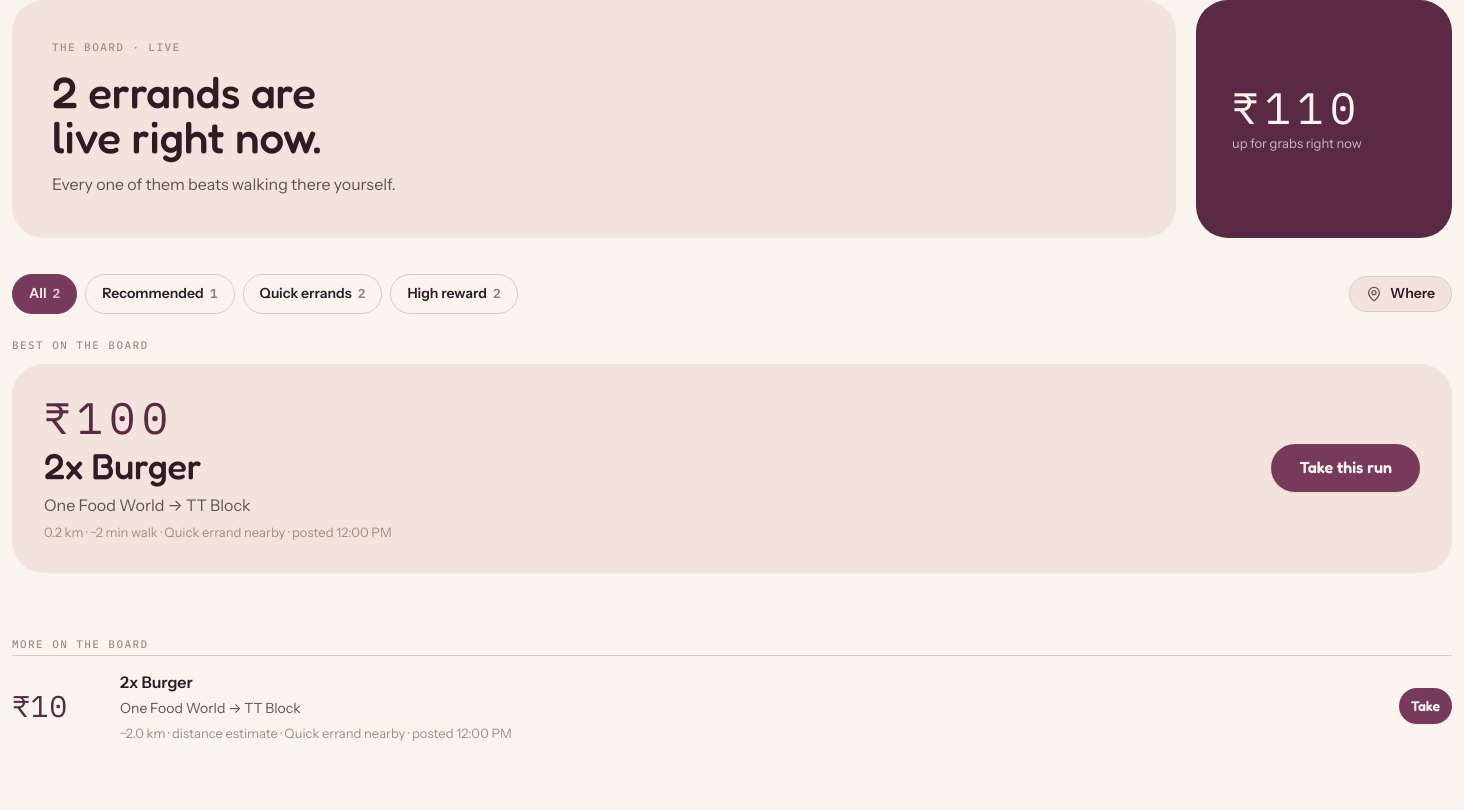
Home — 3F Recommended › excludes the viewer's own posted order from Recommended
Click the button "Recommended1" at coordinates (160, 294), box top-left (85, 274), bottom-right (235, 314)
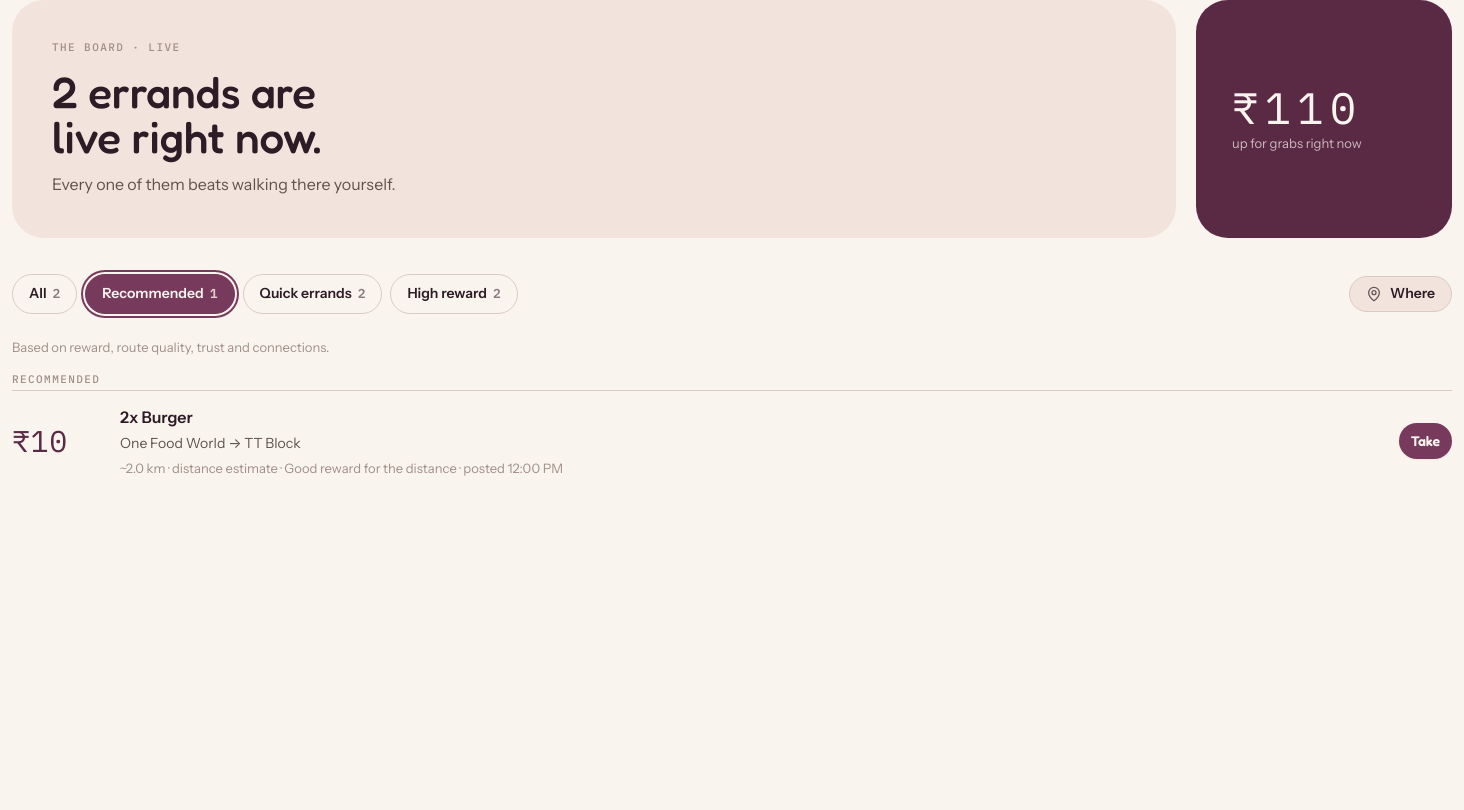
Expected: the text "₹10" is shown, top-left (12, 421), bottom-right (68, 460)
Result: the text "₹100" is gone
